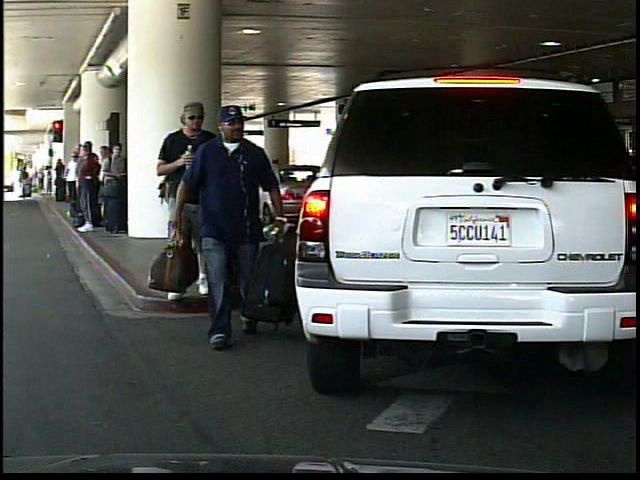person: (183, 97, 296, 349), (158, 96, 226, 293), (190, 134, 236, 253)
